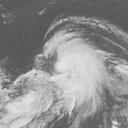cyclone: (8, 15, 107, 126)
